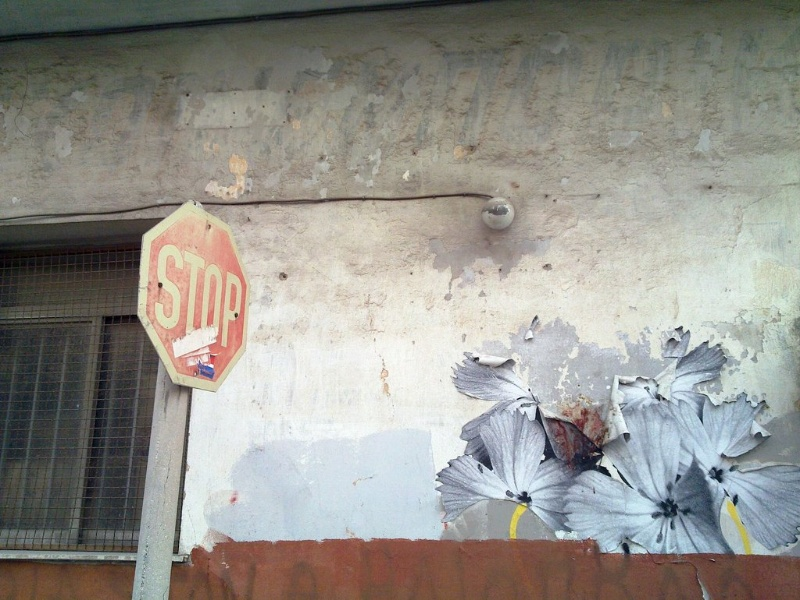stop: (146, 194, 245, 395)
